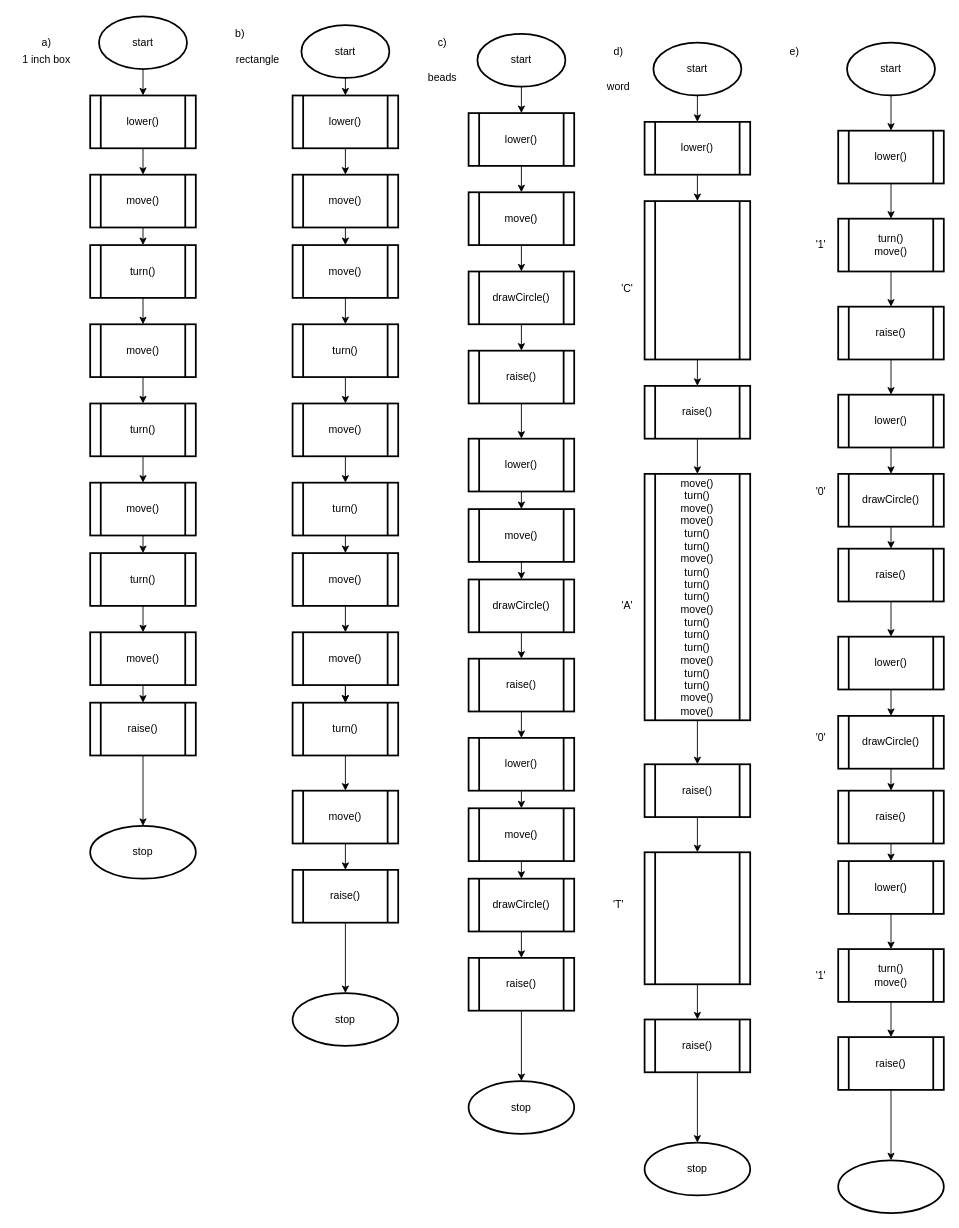
This 959x1228 diagram has some shape labels left out. The shapes that lost their labels are listed below. From the top down, each one's centre as x and y in pixels, then its label:
At pixel 697 280: "move() turn() turn() move() turn() turn() turn() move() turn() turn() move()".
At pixel 697 918: "move() move() turn() turn() move() turn() turn() turn() move() move()".
